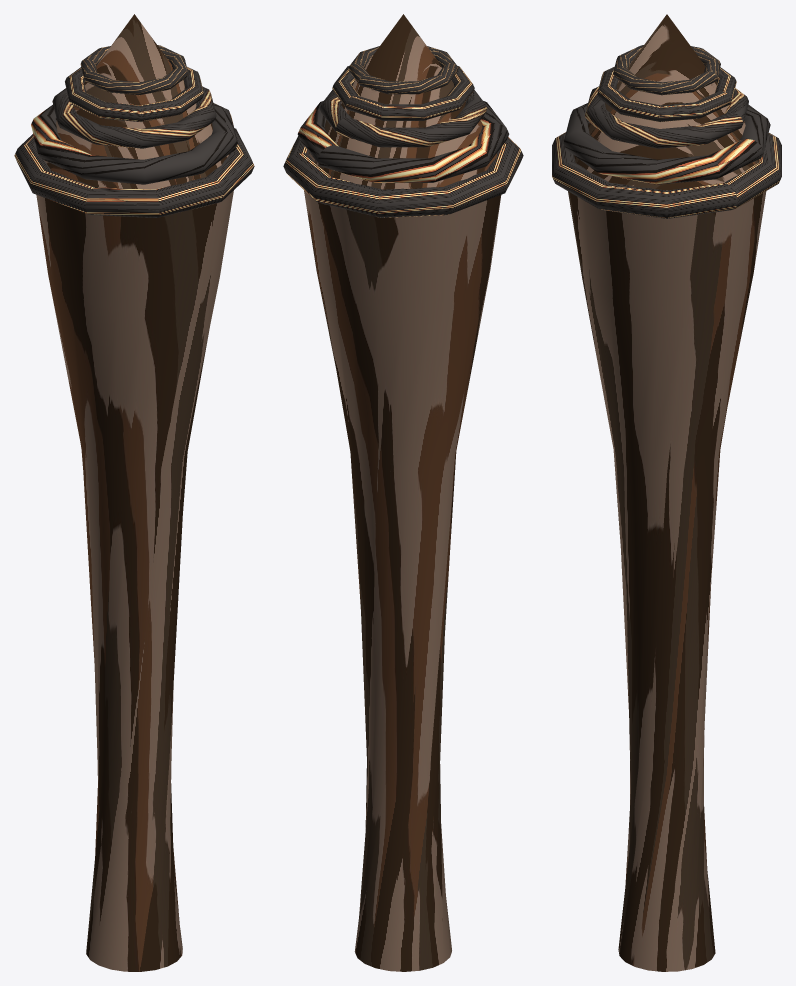
File: torch.fbx
The picture shows the model from 3 angles, left to right: view 1: azimuth 30°, elevation 25°; view 2: azimuth 150°, elevation 25°; view 3: azimuth 270°, elevation 25°; orthographic projection.
Visible parts, largest first — view 1: pCylinder1, pTorus1, pTorus2, pTorus3, pTorus4, pTorus5; view 2: pCylinder1, pTorus1, pTorus2, pTorus3, pTorus4, pTorus5; view 3: pCylinder1, pTorus1, pTorus2, pTorus3, pTorus4, pTorus5.
Part boxes in pixels (x1,y1,x2,y2): pCylinder1: (36, 14, 233, 971); pTorus1: (14, 128, 254, 217); pTorus2: (31, 103, 237, 184); pTorus3: (52, 86, 216, 148); pTorus4: (65, 67, 204, 121); pTorus5: (80, 45, 188, 95); pCylinder1: (304, 14, 501, 971); pTorus1: (283, 136, 523, 217); pTorus2: (297, 101, 509, 182); pTorus3: (319, 89, 487, 147); pTorus4: (332, 66, 474, 120); pTorus5: (348, 46, 458, 94); pCylinder1: (568, 14, 766, 971); pTorus1: (552, 132, 781, 218); pTorus2: (563, 103, 770, 184); pTorus3: (585, 86, 748, 148); pTorus4: (597, 67, 736, 121); pTorus5: (613, 45, 720, 95).
Bounding box in the file's own units: 6.26 × 26.81 × 5.96.
